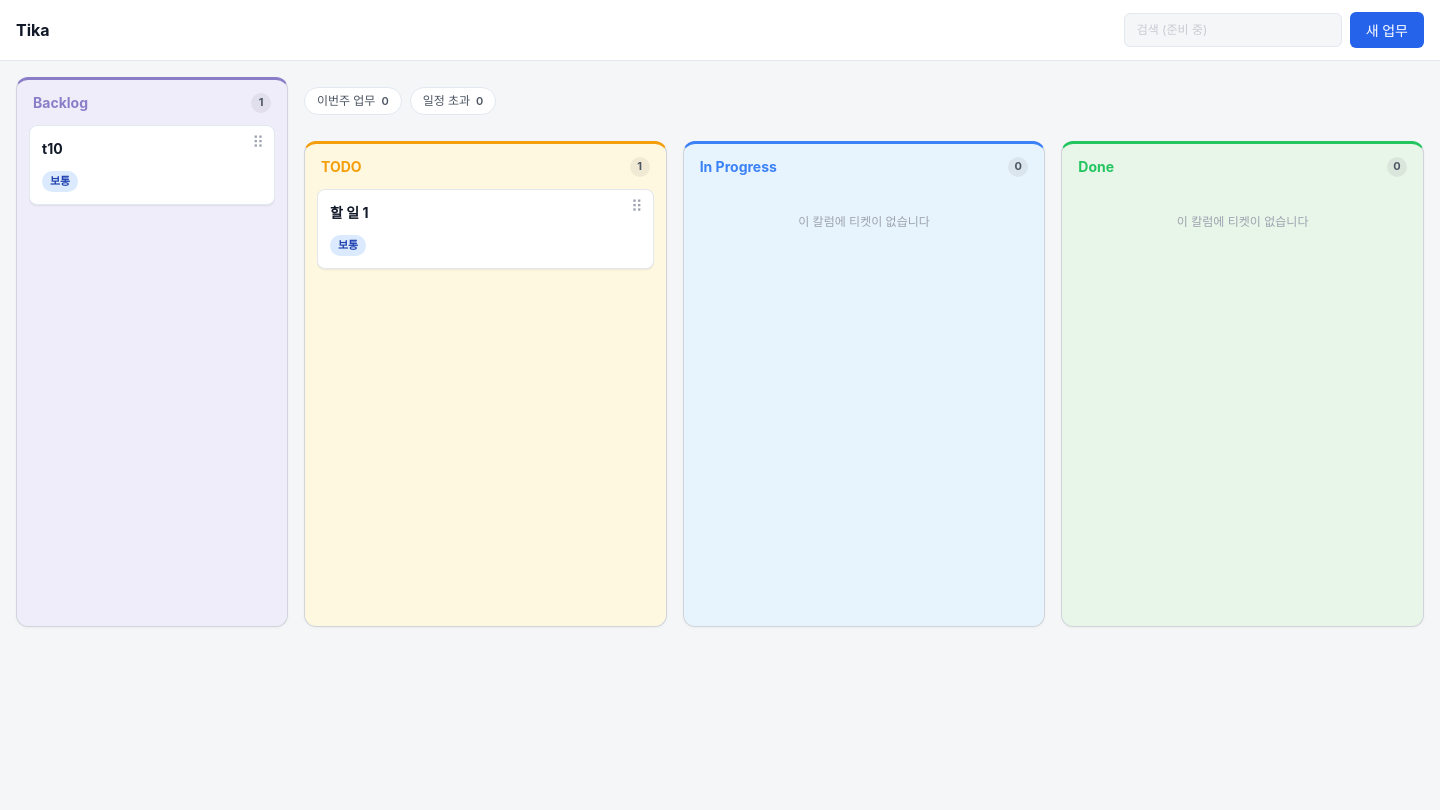
Scenario: BoardContainer › "새 업무" 클릭 시 생성 모달(TicketForm)을 연다
Click the button "새 업무" at (1387, 30), box left=1350, top=12, right=1424, bottom=48
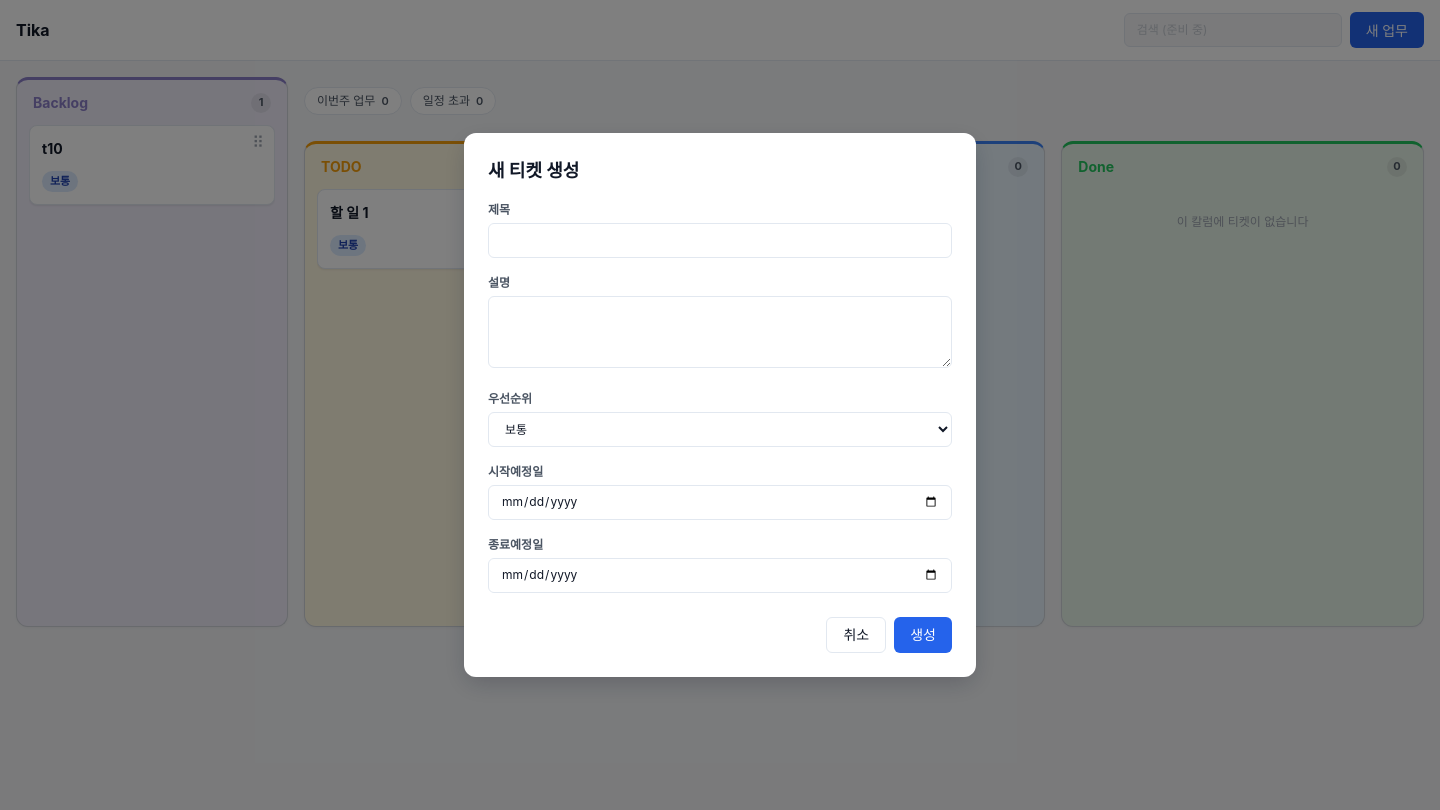
Result: the heading "새 티켓 생성" is shown at left=488, top=160, right=579, bottom=181
Result: the field labelled "제목" is shown at left=488, top=223, right=952, bottom=258
